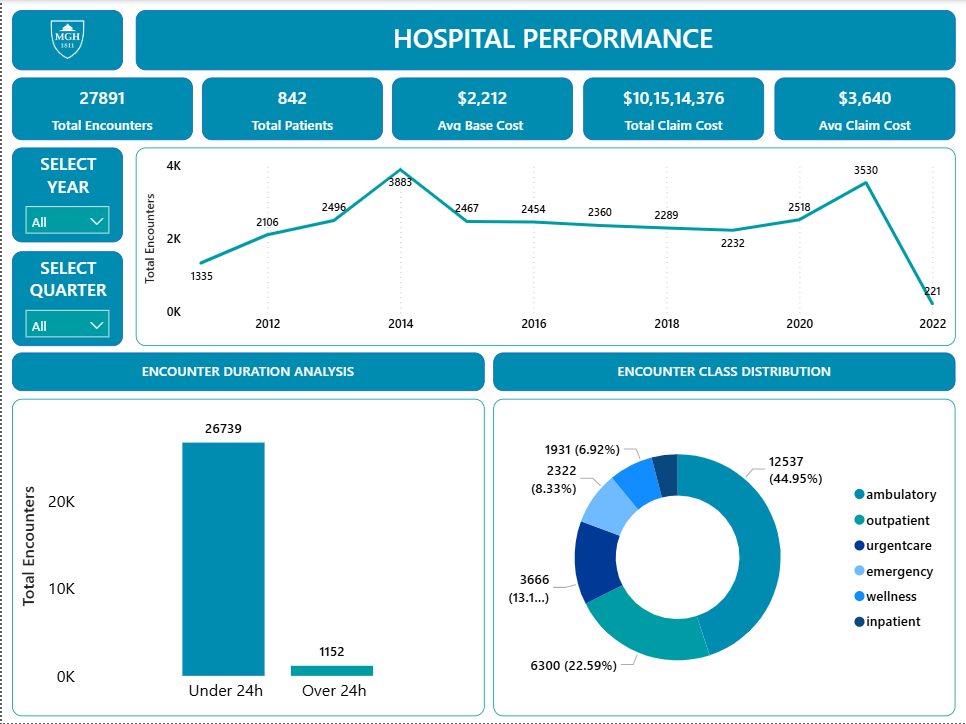

The page's visual inventory and layout, read from the dashboard file:
{"tool":"powerbi","page":{"name":"Encounters Overview","canvas":[960,720],"ordinal":0},"visuals":[{"type":"textbox","box":[133.1,10,816,59.7],"z":0},{"type":"image","box":[10,10,110.7,59.7],"z":1000},{"type":"lineChart","title":"TOTAL ENCOUNTERS","fields":{"Category":["encounters.Year"],"Y":["Dashboard Measures.Total Encounters"]},"box":[133.1,146.8,816,197.8],"z":2000},{"type":"donutChart","title":"ENCOUNTER CLASS DISTRIBUTION","fields":{"Category":["encounters.ENCOUNTERCLASS"],"Y":["Dashboard Measures.Total Encounters"]},"box":[488.9,396.8,460.3,316],"z":3000},{"type":"columnChart","title":"ENCOUNTER DURATION","fields":{"Category":["encounters.Is Over 24 Hour"],"Y":["Dashboard Measures.Total Encounters"]},"box":[10,396.8,470.2,316],"z":4000},{"type":"textbox","box":[10,350.8,470.2,38.6],"z":6000},{"type":"textbox","box":[488.9,350.8,460.3,38.6],"z":7000},{"type":"slicer","title":"SELECT YEAR","fields":{"Values":["encounters.Year"]},"box":[10,146.8,110.7,94.5],"z":8000},{"type":"slicer","title":"SELECT QUARTER","fields":{"Values":["encounters.Quarter"]},"box":[10,250,110.7,94.5],"z":9000},{"type":"card","fields":{"Values":["Dashboard Measures.Total Encounters"]},"box":[10,77.1,180,62.2],"z":11001},{"type":"card","fields":{"Values":["Dashboard Measures.Avg Base Cost by Procedure"]},"box":[388.1,77.1,180.4,62.2],"z":11002},{"type":"card","fields":{"Values":["Dashboard Measures.Total Patients"]},"box":[199,77.1,180.4,62.2],"z":11003},{"type":"card","fields":{"Values":["Sum(encounters.TOTAL_CLAIM_COST)"]},"box":[578.4,77.1,180.4,62.2],"z":11004},{"type":"card","fields":{"Values":["Dashboard Measures.Avg Claim Cost by Payer"]},"box":[768.8,77.1,180.4,62.2],"z":11005}]}

Visuals, with their boxes in screenshot pixels (x1, y1, x2, y2), scaled from the page's 960x720 canvas onto the 966x724 screenshot:
textbox: box=[134, 10, 955, 70]
image: box=[10, 10, 121, 70]
"TOTAL ENCOUNTERS" lineChart: box=[134, 148, 955, 347]
"ENCOUNTER CLASS DISTRIBUTION" donutChart: box=[492, 399, 955, 717]
"ENCOUNTER DURATION" columnChart: box=[10, 399, 483, 717]
textbox: box=[10, 353, 483, 392]
textbox: box=[492, 353, 955, 392]
"SELECT YEAR" slicer: box=[10, 148, 121, 243]
"SELECT QUARTER" slicer: box=[10, 251, 121, 346]
card - Dashboard Measures.Total Encounters: box=[10, 78, 191, 140]
card - Dashboard Measures.Avg Base Cost by Procedure: box=[391, 78, 572, 140]
card - Dashboard Measures.Total Patients: box=[200, 78, 382, 140]
card - Sum(encounters.TOTAL_CLAIM_COST): box=[582, 78, 764, 140]
card - Dashboard Measures.Avg Claim Cost by Payer: box=[774, 78, 955, 140]
